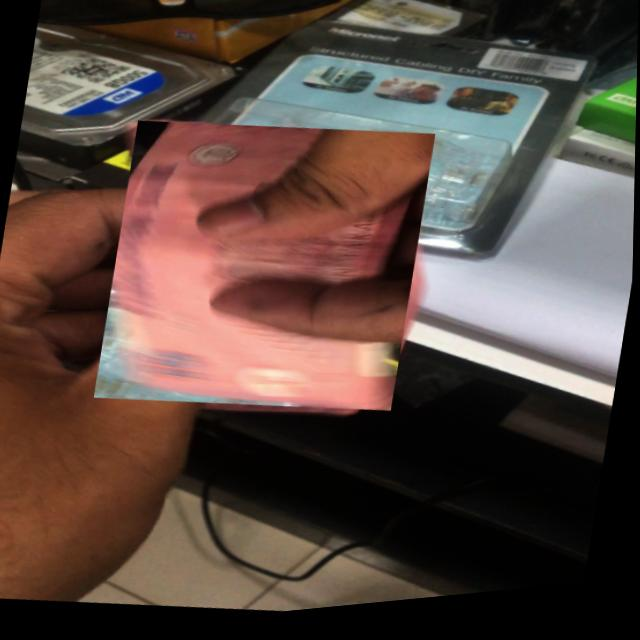Taka: (95, 102, 437, 442)
